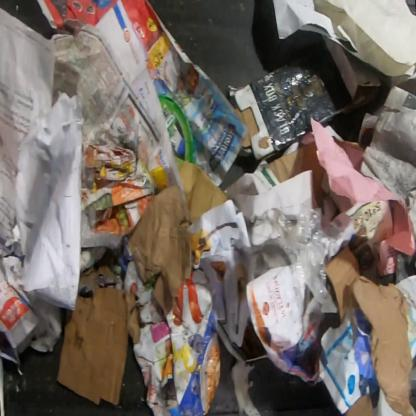cardboard: (227, 35, 382, 162), (123, 260, 223, 415), (54, 256, 140, 409), (347, 274, 415, 415), (126, 181, 194, 316), (266, 141, 327, 208), (178, 160, 229, 224), (326, 245, 361, 326), (342, 394, 376, 415), (331, 136, 365, 152)
rigid_plastic: (156, 92, 195, 164)
soft_plastic: (262, 202, 342, 302)
